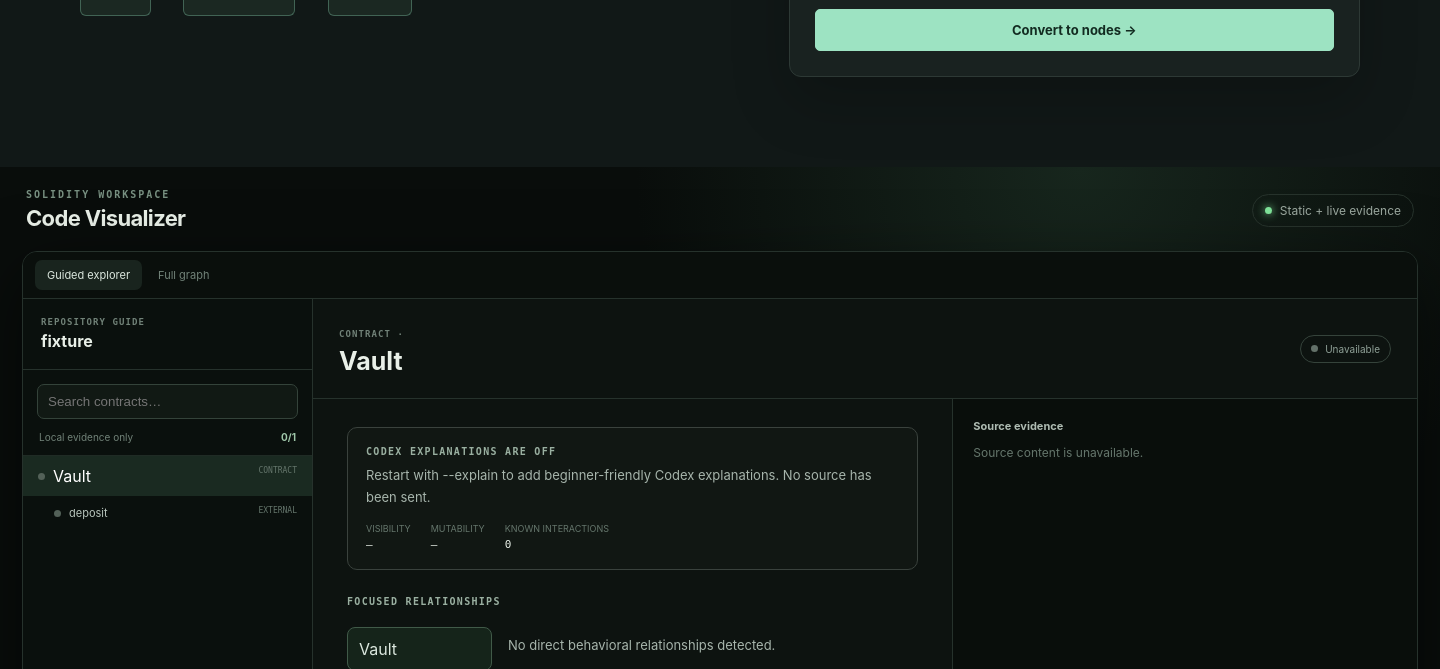
it: repository graph › offers recovery for missing Foundry and compiler errors
(page scrolled)
Click the tab "Full graph": (184, 275) [146,260,221,290]
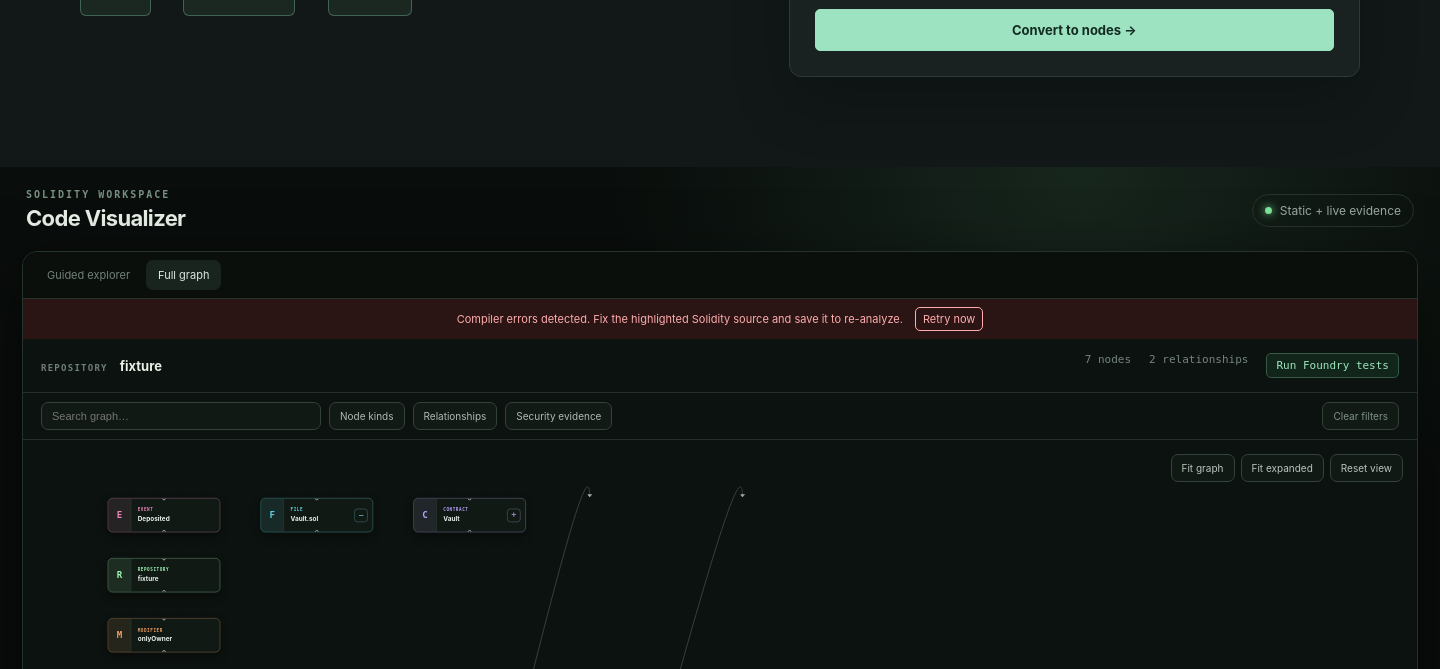
Now the text "Compiler errors detected" is shown, box [457,312,903,326]
Now the button "Retry now" is shown, box [915,307,983,331]
Click the button "Run Foundry tests": (1333, 366) [1266,353,1399,378]
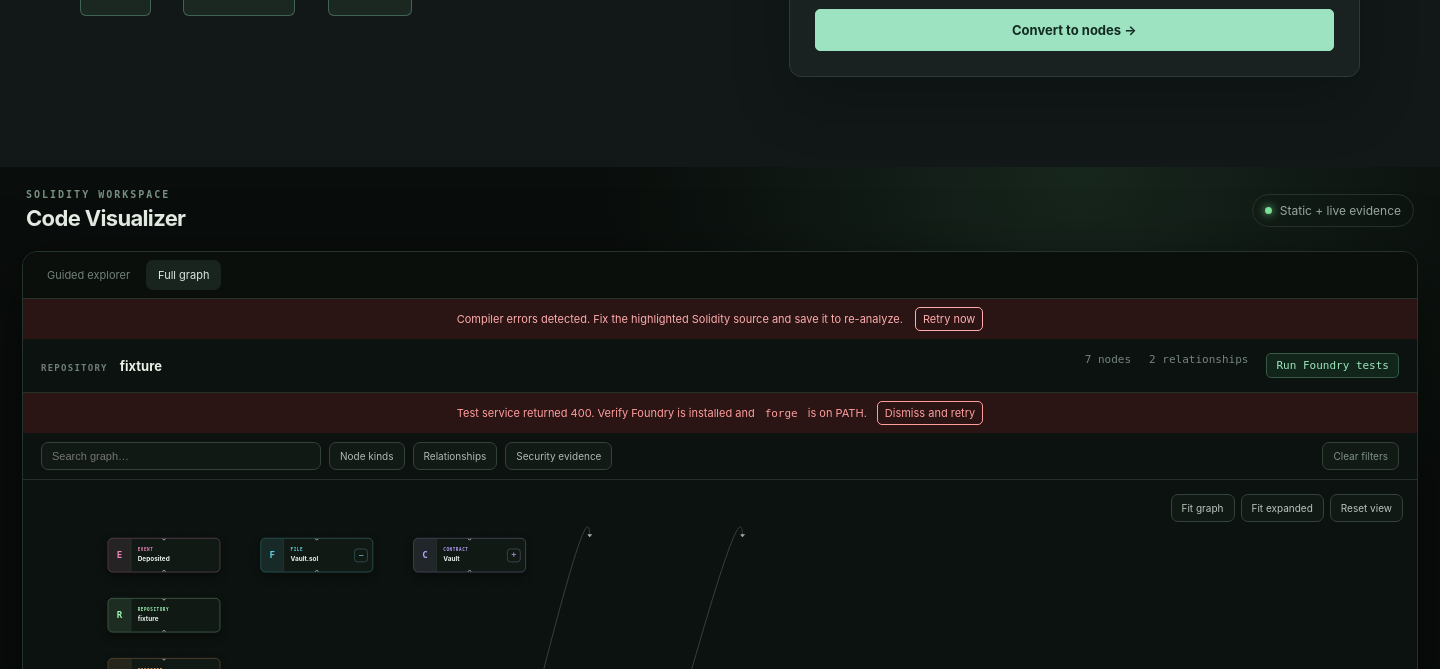
Now the text "Verify Foundry is installed" is shown, box [591,406,755,420]
Now the button "Dismiss and retry" is shown, box [877,401,983,425]
